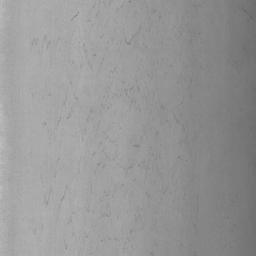Silk spot: (125, 26, 141, 45), (44, 188, 52, 205)
